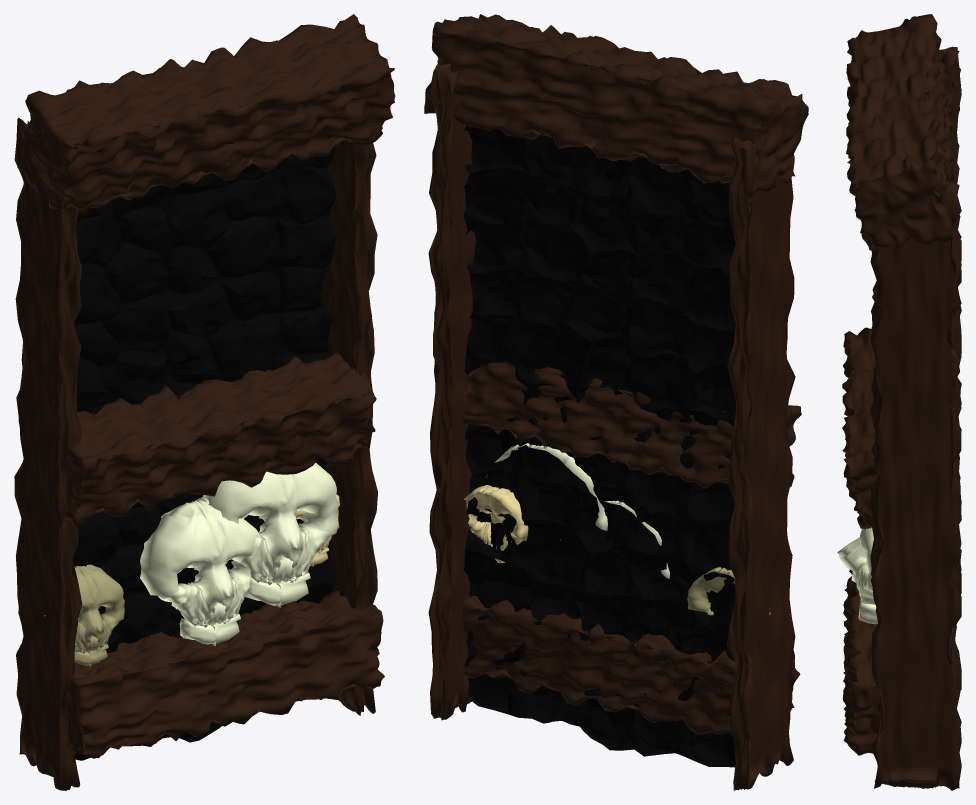
Rendered from wall_quarter.fbx.
The picture shows the model from 3 angles, left to right: view 1: azimuth 30°, elevation 25°; view 2: azimuth 150°, elevation 25°; view 3: azimuth 270°, elevation 25°; orthographic projection. The views are drawn at different scales.
Parts seen in each view (by area): view 1: ParticleSystem; view 2: ParticleSystem; view 3: ParticleSystem.
Boxes of the visible parts, <box> form: ParticleSystem: <box>14,14,395,790</box>; ParticleSystem: <box>424,14,808,790</box>; ParticleSystem: <box>837,14,961,790</box>.
Bounding box in the file's own units: 227 × 448 × 79.22.
